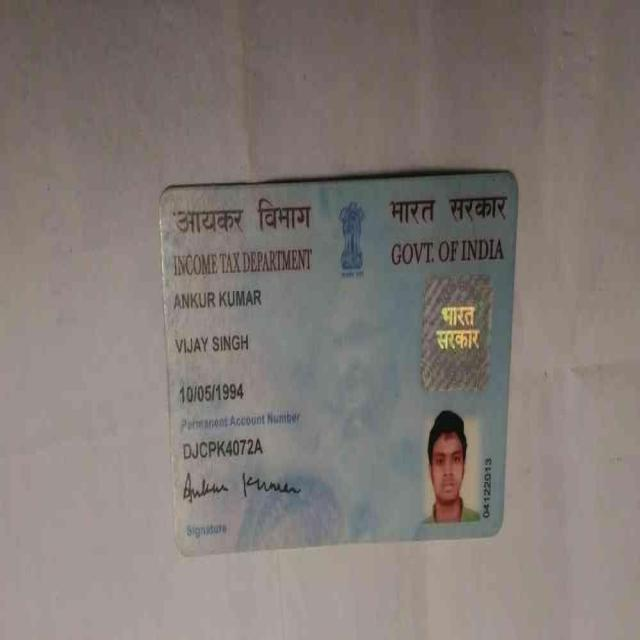pan_card: (161, 179, 514, 554)
